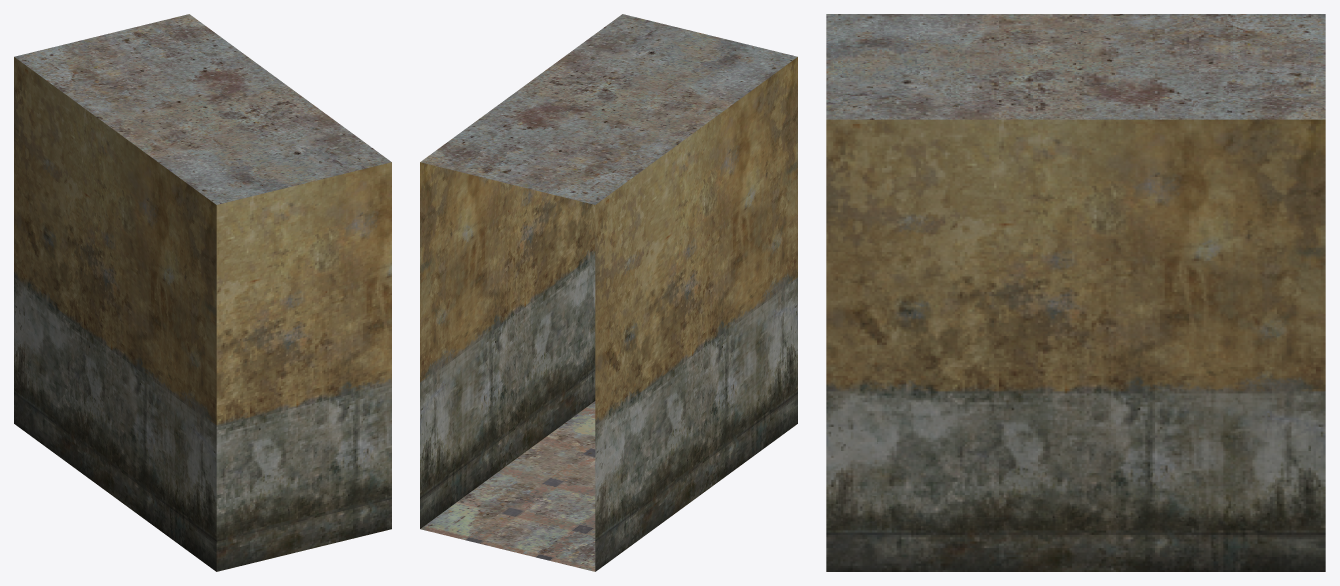
File: _Corridor_part24.FBX
3 views of the same model, side by side, from view 1: azimuth 30°, elevation 25°; view 2: azimuth 150°, elevation 25°; view 3: azimuth 270°, elevation 25° (orthographic). The views are drawn at different scales.
Visible parts, largest first — view 1: Corridor_Part024; view 2: Corridor_Part024; view 3: Corridor_Part024.
Part boxes in pixels (<box>): Corridor_Part024: <box>14,14,391,571</box>; Corridor_Part024: <box>420,14,797,571</box>; Corridor_Part024: <box>826,14,1325,571</box>.
Bounding box in the file's own units: 127 × 254 × 254.
3 materials, 3 textured.
